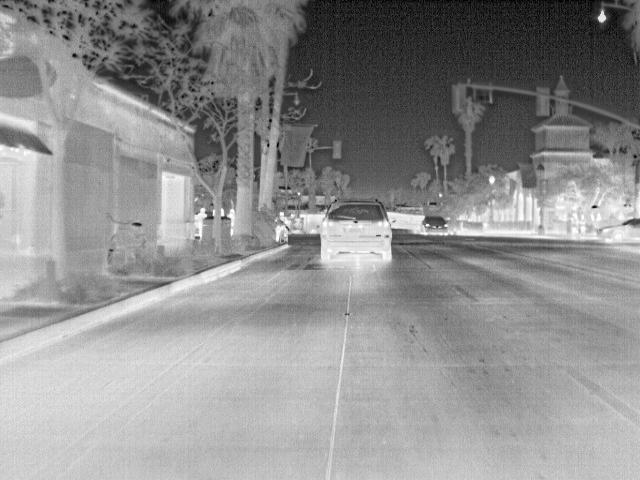car: (318, 197, 396, 263), (596, 216, 640, 244), (420, 214, 450, 236)
person: (193, 206, 209, 240), (272, 212, 290, 242), (225, 206, 239, 237)
